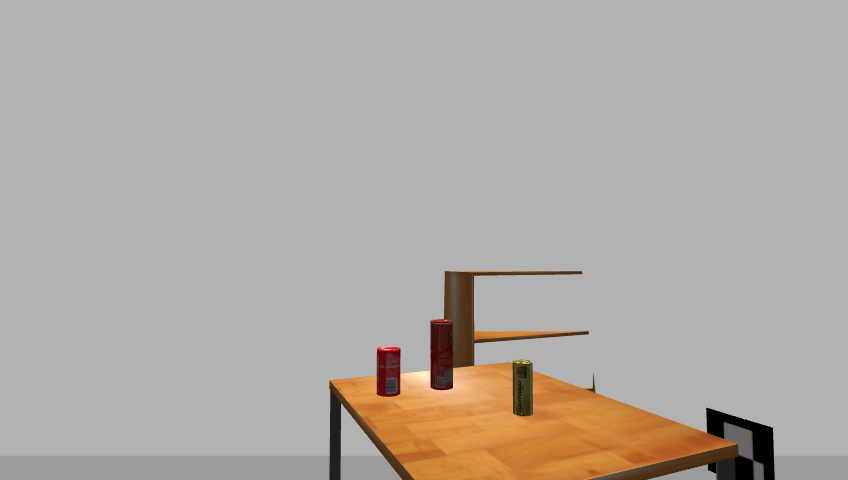aruco marker: (700, 407, 781, 480)
biscuits pack: (511, 360, 535, 417)
bookshelf: (439, 267, 595, 434)
coke can: (374, 346, 403, 398)
dinner table: (320, 365, 745, 480)
pringles can: (428, 318, 455, 392)
